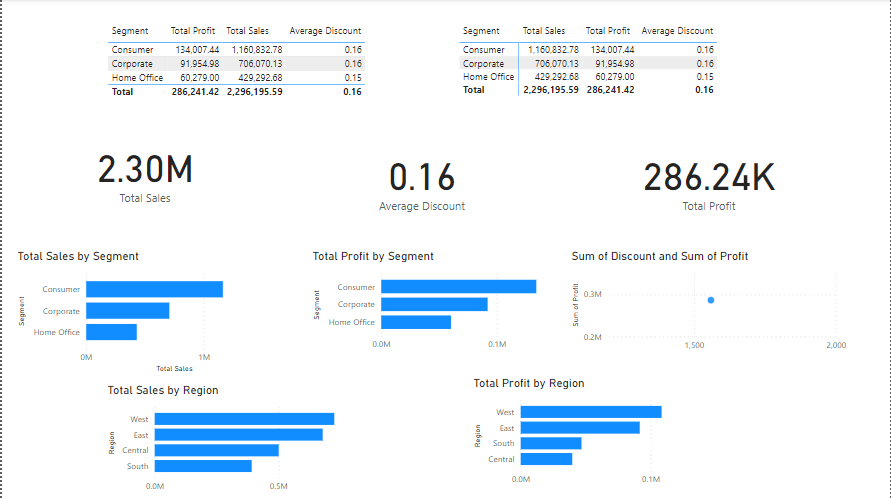

The dashboard page shown, as its layout file describes it:
{"tool":"powerbi","page":{"name":"EDA","canvas":[1280,720],"ordinal":0},"visuals":[{"type":"tableEx","fields":{"Values":["SampleSuperstore.Segment","SampleSuperstore.Total Profit","SampleSuperstore.Total Sales","SampleSuperstore.Average Discount"]},"box":[146.9,30.2,385.9,128.2],"z":0},{"type":"pivotTable","fields":{"Rows":["SampleSuperstore.Segment"],"Values":["SampleSuperstore.Total Sales","SampleSuperstore.Total Profit","SampleSuperstore.Average Discount"]},"box":[653.8,30.2,393.1,128.2],"z":1000},{"type":"card","fields":{"Values":["SampleSuperstore.Total Sales"]},"box":[17.3,171.4,377.3,152.6],"z":2000},{"type":"card","fields":{"Values":["SampleSuperstore.Total Profit"]},"box":[815,182.9,406.1,152.6],"z":3000},{"type":"card","fields":{"Values":["SampleSuperstore.Average Discount"]},"box":[394.6,182.9,420.5,152.6],"z":4000},{"type":"barChart","fields":{"Category":["SampleSuperstore.Segment"],"Y":["SampleSuperstore.Total Sales"]},"box":[17.3,360,377.3,182.9],"z":5000},{"type":"barChart","fields":{"Category":["SampleSuperstore.Segment"],"Y":["SampleSuperstore.Total Profit"]},"box":[442.1,360,373,155.5],"z":6000},{"type":"barChart","fields":{"Category":["SampleSuperstore.Region"],"Y":["SampleSuperstore.Total Sales"]},"box":[146.9,553,377.3,167],"z":7000},{"type":"barChart","fields":{"Category":["SampleSuperstore.Region"],"Y":["SampleSuperstore.Total Profit"]},"box":[673.9,542.9,373,167],"z":8000},{"type":"scatterChart","fields":{"X":["Sum(SampleSuperstore.Discount)"],"Y":["Sum(SampleSuperstore.Profit)"]},"box":[815,360,406,156],"z":9000}]}

Visuals, with their boxes in screenshot pixels (x1, y1, x2, y2), scaled from the page's 1280x720 canvas onto the 891x499 screenshot:
tableEx - SampleSuperstore.Segment x SampleSuperstore.Total Profit: {"left": 102, "top": 21, "right": 371, "bottom": 110}
pivotTable - SampleSuperstore.Segment x SampleSuperstore.Total Sales: {"left": 455, "top": 21, "right": 729, "bottom": 110}
card - SampleSuperstore.Total Sales: {"left": 12, "top": 119, "right": 275, "bottom": 225}
card - SampleSuperstore.Total Profit: {"left": 567, "top": 127, "right": 850, "bottom": 233}
card - SampleSuperstore.Average Discount: {"left": 275, "top": 127, "right": 567, "bottom": 233}
barChart - SampleSuperstore.Segment x SampleSuperstore.Total Sales: {"left": 12, "top": 250, "right": 275, "bottom": 376}
barChart - SampleSuperstore.Segment x SampleSuperstore.Total Profit: {"left": 308, "top": 250, "right": 567, "bottom": 357}
barChart - SampleSuperstore.Region x SampleSuperstore.Total Sales: {"left": 102, "top": 383, "right": 365, "bottom": 498}
barChart - SampleSuperstore.Region x SampleSuperstore.Total Profit: {"left": 469, "top": 376, "right": 729, "bottom": 492}
scatterChart - Sum(SampleSuperstore.Discount) x Sum(SampleSuperstore.Profit): {"left": 567, "top": 250, "right": 850, "bottom": 358}
